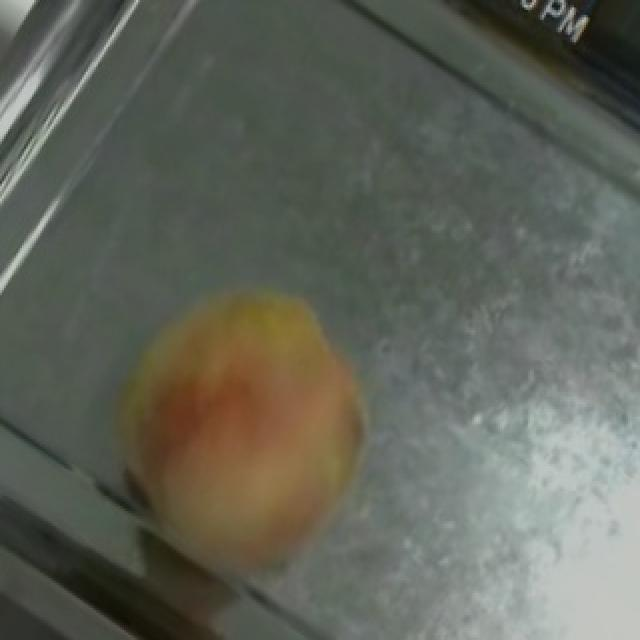Fruit: (64, 240, 402, 602)
